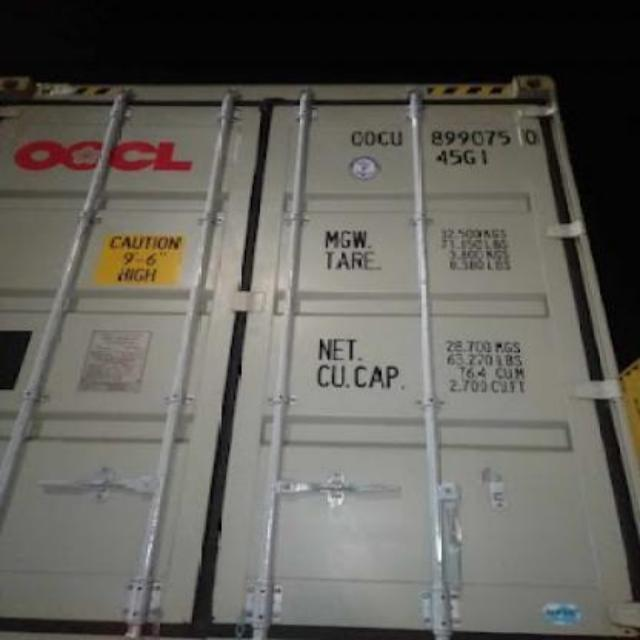0: (470, 129, 486, 147), (526, 130, 536, 142)
5: (496, 129, 512, 145)
7: (484, 129, 500, 145)
8: (432, 132, 444, 144)
9: (444, 129, 456, 145), (458, 130, 470, 146)
C: (376, 132, 389, 144)
O: (351, 130, 364, 146), (364, 129, 374, 145)
U: (388, 129, 404, 147)
